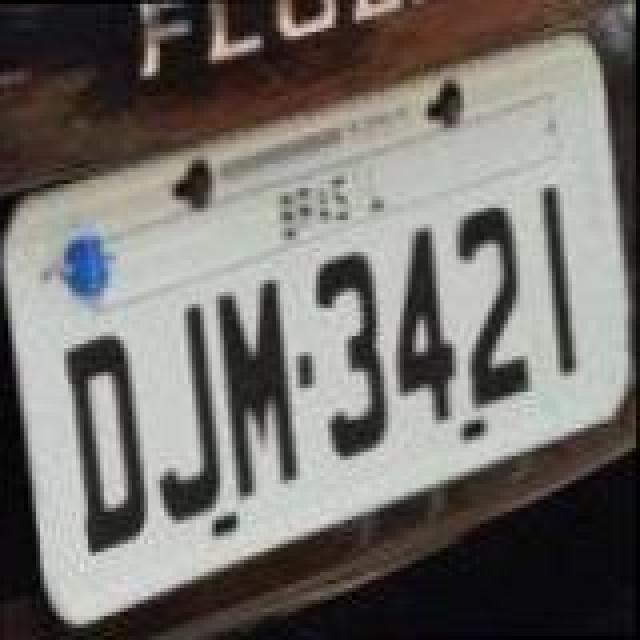1: (536, 184, 580, 384)
2: (454, 204, 534, 412)
3: (310, 250, 390, 462)
4: (392, 224, 460, 428)
D: (64, 332, 152, 556)
J: (156, 302, 228, 526)
M: (216, 280, 304, 508)
